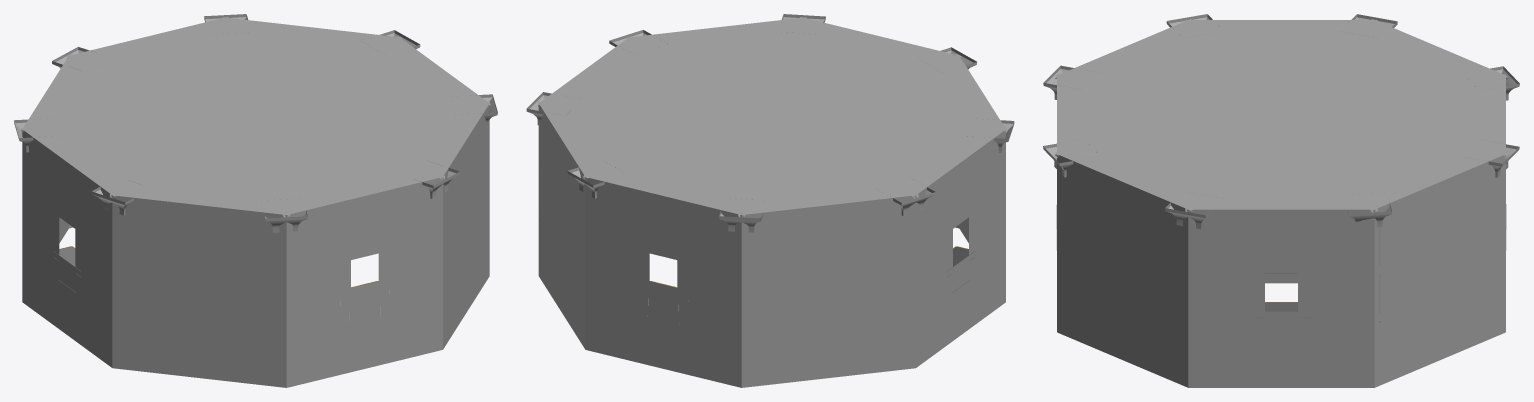
The model's file is SM_MainRoom_01.fbx.
The picture shows the model from 3 angles, left to right: view 1: azimuth 30°, elevation 25°; view 2: azimuth 150°, elevation 25°; view 3: azimuth 270°, elevation 25°; orthographic projection. The views are drawn at different scales.
Visible parts, largest first — view 1: SM_MainRoom_Wall_01, SM_MainRoom_Roof_01, SM_MainRoom_Pillars_01, SM_MainRoom_RoofTrim_01, SM_BMainRoom_BridgeEdge_01; view 2: SM_MainRoom_Wall_01, SM_MainRoom_Roof_01, SM_MainRoom_Pillars_01, SM_MainRoom_RoofTrim_01, SM_BMainRoom_BridgeEdge_01; view 3: SM_MainRoom_Wall_01, SM_MainRoom_Roof_01, SM_MainRoom_Pillars_01, SM_MainRoom_RoofTrim_01, SM_BMainRoom_BridgeEdge_01.
Boxes of the visible parts, box(x1,y1,x2,y2) form: SM_MainRoom_Wall_01: box(22, 105, 489, 387); SM_MainRoom_Roof_01: box(25, 19, 488, 213); SM_MainRoom_Pillars_01: box(14, 14, 497, 232); SM_MainRoom_RoofTrim_01: box(21, 17, 490, 217); SM_BMainRoom_BridgeEdge_01: box(54, 246, 389, 323); SM_MainRoom_Wall_01: box(538, 105, 1005, 387); SM_MainRoom_Roof_01: box(542, 17, 1002, 213); SM_MainRoom_Pillars_01: box(526, 14, 1014, 232); SM_MainRoom_RoofTrim_01: box(537, 17, 1007, 217); SM_BMainRoom_BridgeEdge_01: box(640, 246, 975, 323); SM_MainRoom_Wall_01: box(1057, 155, 1505, 387); SM_MainRoom_Roof_01: box(1057, 21, 1502, 209); SM_MainRoom_Pillars_01: box(1043, 14, 1519, 322); SM_MainRoom_RoofTrim_01: box(1055, 19, 1507, 212); SM_BMainRoom_BridgeEdge_01: box(1056, 205, 1506, 317).
Bounding box in the file's own units: 4241 × 1751 × 4244.
